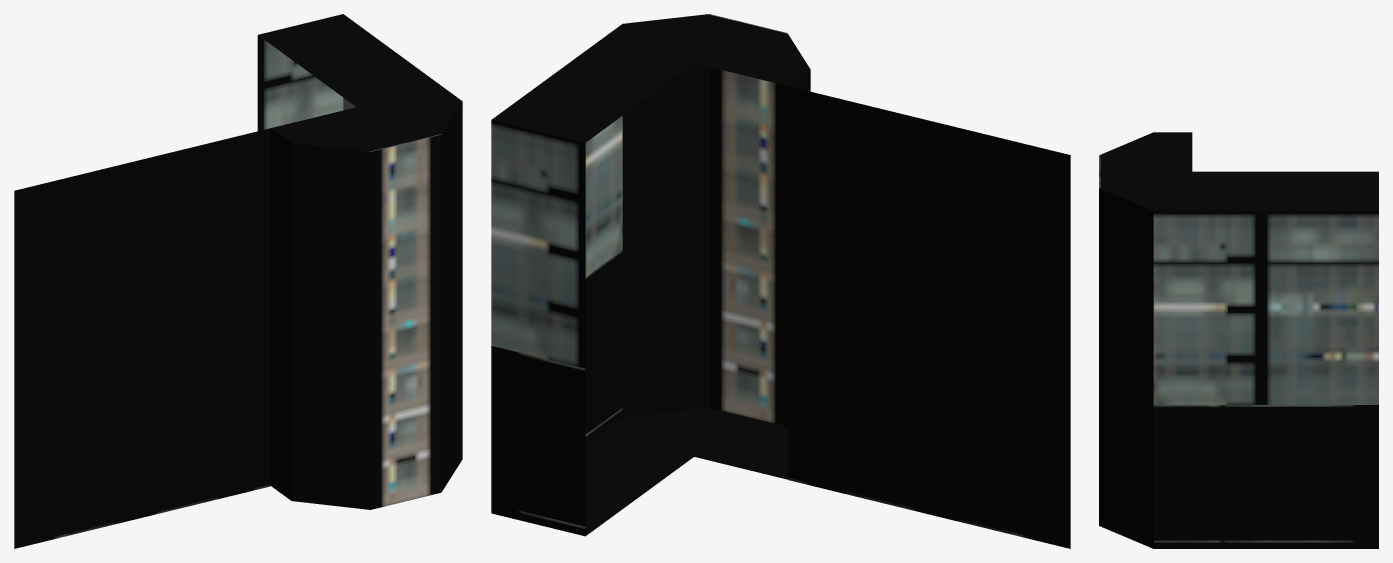
The model's file is Pagoda_Body_Tile_Corner_Octo_2500x2500_C.FBX.
The picture shows the model from 3 angles, left to right: view 1: azimuth 30°, elevation 25°; view 2: azimuth 150°, elevation 25°; view 3: azimuth 270°, elevation 25°; orthographic projection. The views are drawn at different scales.
Parts seen in each view (by area): view 1: Geometry_Pagoda_Body_Tile_Corner_Octo_2500x2500_C_LOD01; view 2: Geometry_Pagoda_Body_Tile_Corner_Octo_2500x2500_C_LOD01; view 3: Geometry_Pagoda_Body_Tile_Corner_Octo_2500x2500_C_LOD01.
Part boxes in pixels (x1,y1,x2,y2): Geometry_Pagoda_Body_Tile_Corner_Octo_2500x2500_C_LOD01: (14, 14, 462, 548); Geometry_Pagoda_Body_Tile_Corner_Octo_2500x2500_C_LOD01: (491, 14, 1070, 548); Geometry_Pagoda_Body_Tile_Corner_Octo_2500x2500_C_LOD01: (1099, 132, 1378, 548).
Size of the model in its own units: 3125 by 2500 by 1875.
